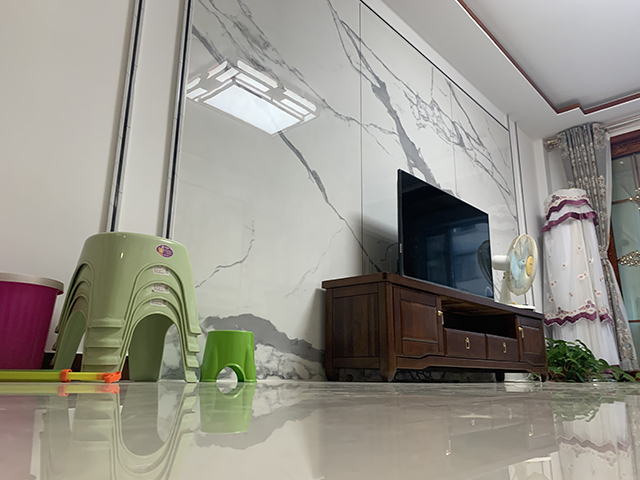cabinet: (321, 271, 549, 383)
curtain: (557, 121, 640, 370)
stool: (51, 231, 203, 383), (201, 330, 257, 383)
trashcan: (1, 272, 65, 370)
